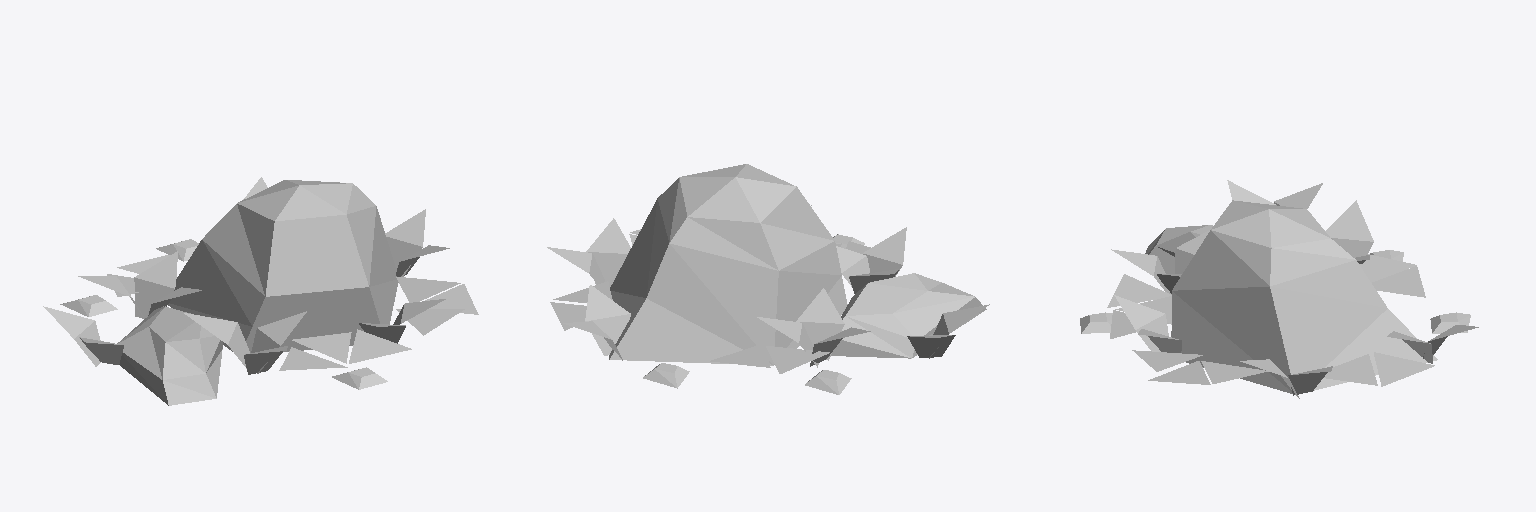
Rendered from rocks.obj.
3 renders of one model, left to right at view 1: azimuth 30°, elevation 25°; view 2: azimuth 150°, elevation 25°; view 3: azimuth 270°, elevation 25°, orthographic.
Visible parts, largest first — view 1: farm_rocks_farm_rocks_mesh; view 2: farm_rocks_farm_rocks_mesh; view 3: farm_rocks_farm_rocks_mesh.
Part boxes in pixels (left/top/right/bottom): farm_rocks_farm_rocks_mesh: left=43, top=177, right=478, bottom=405; farm_rocks_farm_rocks_mesh: left=547, top=164, right=989, bottom=394; farm_rocks_farm_rocks_mesh: left=1080, top=180, right=1478, bottom=398.
Size of the model in its own units: 33.2 by 10.59 by 29.35.